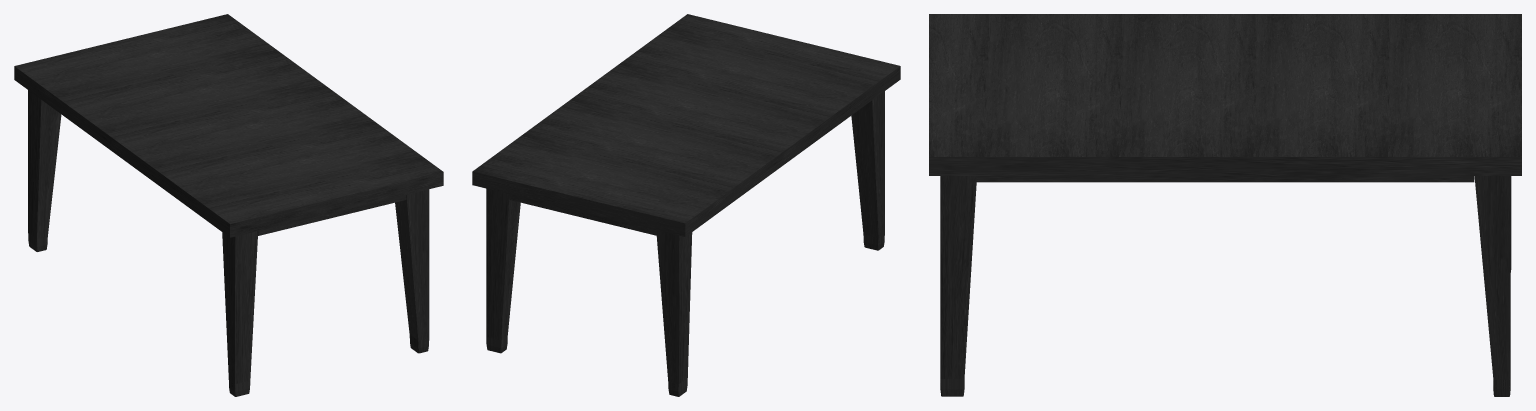
Rendered from mesanegra.obj.
3 renders of one model, left to right at view 1: azimuth 30°, elevation 25°; view 2: azimuth 150°, elevation 25°; view 3: azimuth 270°, elevation 25°, orthographic. The views are drawn at different scales.
Parts seen in each view (by area): view 1: Cube_Cube.001, Cube.003_Cube.004, Cube.001_Cube.002, Cube.004_Cube.005, Cube.006_Cube.007; view 2: Cube_Cube.001, Cube.004_Cube.005, Cube.002_Cube.003, Cube.003_Cube.004, Cube.008_Cube.009; view 3: Cube_Cube.001, Cube.001_Cube.002, Cube.002_Cube.003, Cube.007_Cube.008.
Boxes of the visible parts, bbox=[...] form: Cube_Cube.001: bbox=[14, 14, 443, 237]; Cube.003_Cube.004: bbox=[222, 231, 257, 396]; Cube.001_Cube.002: bbox=[395, 189, 429, 353]; Cube.004_Cube.005: bbox=[28, 90, 61, 251]; Cube.006_Cube.007: bbox=[257, 195, 406, 235]; Cube_Cube.001: bbox=[472, 14, 900, 236]; Cube.004_Cube.005: bbox=[656, 230, 692, 396]; Cube.002_Cube.003: bbox=[486, 188, 520, 353]; Cube.003_Cube.004: bbox=[851, 91, 884, 250]; Cube.008_Cube.009: bbox=[509, 194, 656, 235]; Cube_Cube.001: bbox=[929, 14, 1521, 175]; Cube.001_Cube.002: bbox=[940, 176, 976, 396]; Cube.002_Cube.003: bbox=[1474, 176, 1510, 396]; Cube.007_Cube.008: bbox=[976, 176, 1474, 182].
Size of the model in its own units: 3.92 by 3.15 by 6.86.
